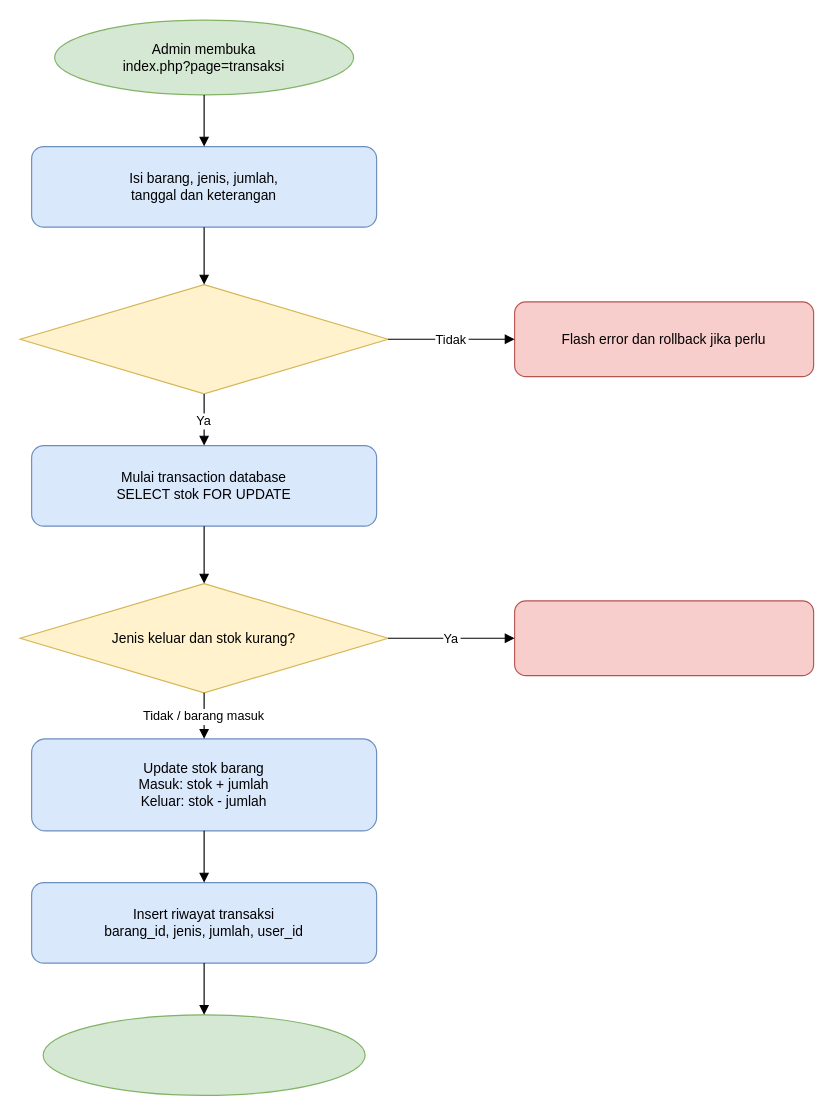
The diagram is 834 pixels wide and 1116 high, and some of its shapes have lost their labels. Here are the shapes that lost their labels. From the top down, the box of each, then its label:
(19, 283, 388, 394): Data valid? jumlah >= 1 dan jenis masuk/keluar
(513, 600, 814, 676): Tolak transaksi Rollback dan tampilkan stok tersedia
(42, 1014, 365, 1095): Commit Flash sukses dan redirect ke riwayat
